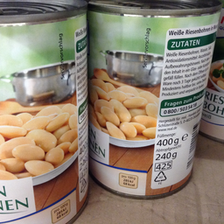beans: (89, 2, 219, 203), (1, 2, 86, 224)
